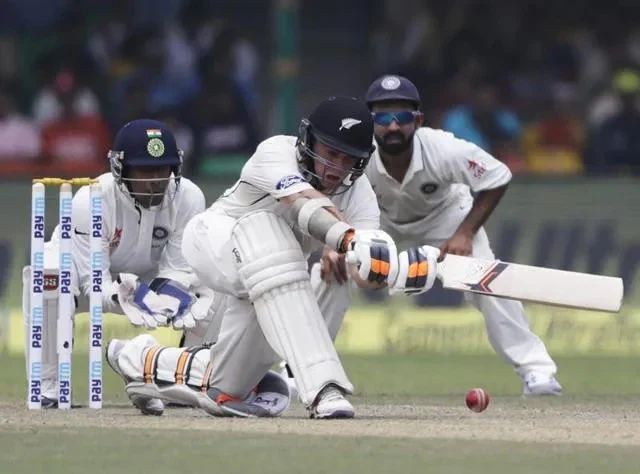Sweepshot: (102, 82, 633, 431)
